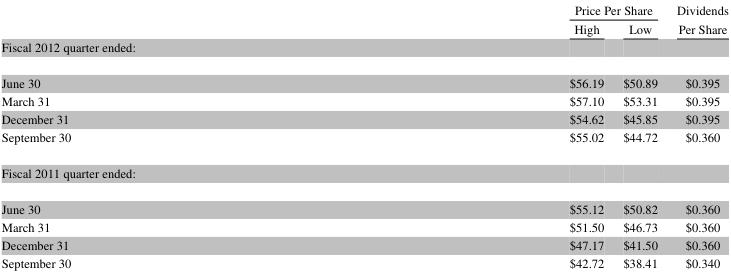table: (0, 0, 727, 270)
table column: (0, 0, 319, 270), (319, 0, 612, 270), (666, 0, 727, 270), (612, 0, 666, 270)
table column header: (0, 0, 727, 37)
table projected row header: (0, 154, 727, 190), (0, 37, 727, 64)
table row: (0, 154, 727, 190), (0, 37, 727, 64), (0, 64, 727, 91), (0, 127, 727, 154), (0, 190, 727, 217), (0, 18, 727, 37), (0, 0, 727, 18), (0, 91, 727, 109), (0, 109, 727, 127), (0, 217, 727, 235), (0, 235, 727, 253), (0, 253, 727, 270)
table spanning cell: (319, 0, 666, 18), (666, 0, 727, 37)
